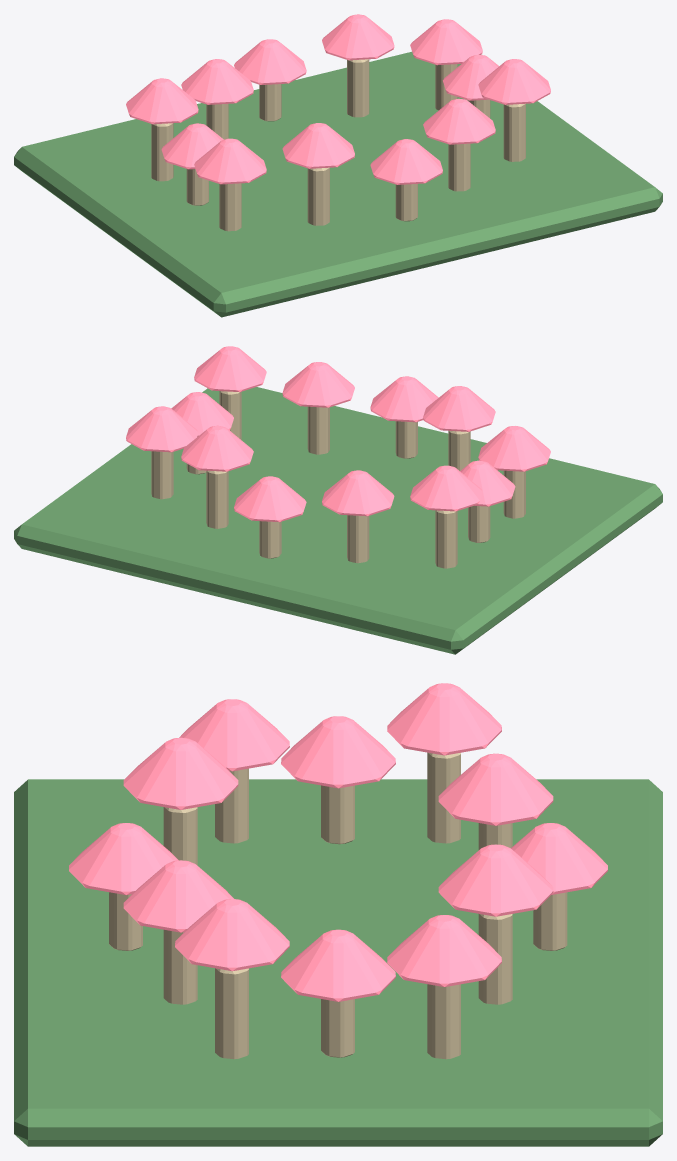
The model's file is old_wood_mushroom_ring.glb.
The picture shows the model from 3 angles, top to bottom: view 1: azimuth 30°, elevation 25°; view 2: azimuth 150°, elevation 25°; view 3: azimuth 270°, elevation 25°; orthographic projection. The views are drawn at different scales.
Bounding box in the file's own units: 2.3 × 0.5901 × 1.85.
